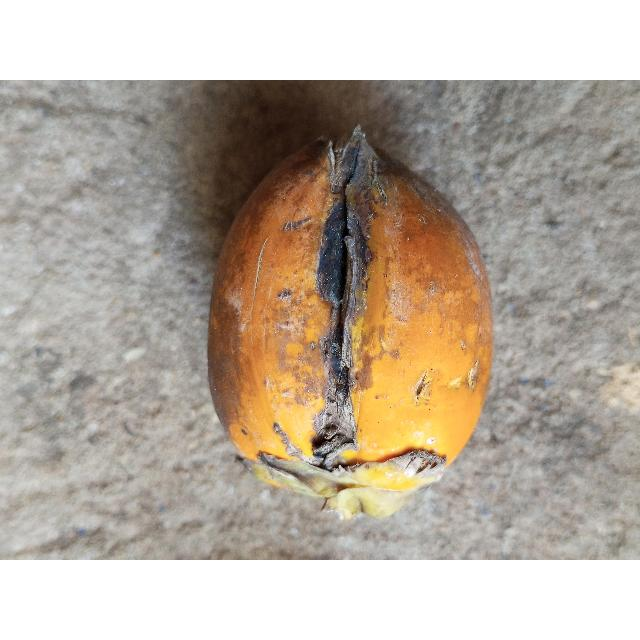damaged: (207, 128, 495, 520)
